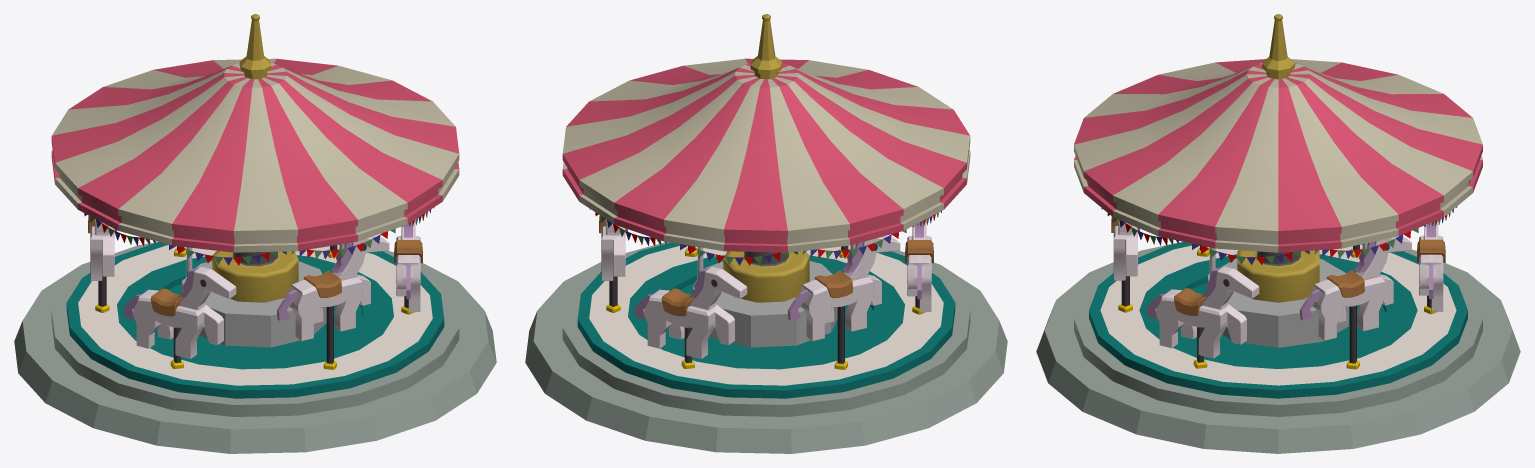
Rendered from MerryGoRound_MD(1).fbx.
3 renders of one model, left to right at view 1: azimuth 30°, elevation 25°; view 2: azimuth 150°, elevation 25°; view 3: azimuth 270°, elevation 25°, orthographic.
Parts seen in each view (by area): view 1: rotation, unRotate, horse4, horse5, pCylinder1, horse6, horse3; view 2: rotation, unRotate, horse2, horse3, pCylinder1, horse4, horse1; view 3: rotation, unRotate, horse6, horse1, pCylinder1, horse2, horse5.
Part boxes in pixels (x1,y1,x2,y2): rotation: (51, 58, 459, 398); unRotate: (14, 14, 496, 453); horse4: (124, 247, 236, 362); horse5: (276, 236, 389, 363); pCylinder1: (181, 261, 326, 347); horse6: (394, 219, 422, 311); horse3: (88, 215, 116, 306); rotation: (562, 58, 970, 398); unRotate: (525, 14, 1007, 453); horse2: (635, 247, 747, 362); horse3: (787, 236, 900, 363); pCylinder1: (692, 261, 837, 347); horse4: (905, 219, 933, 311); horse1: (599, 215, 627, 306); rotation: (1074, 59, 1482, 398); unRotate: (1036, 14, 1520, 453); horse6: (1147, 247, 1259, 362); horse1: (1299, 236, 1411, 363); pCylinder1: (1208, 259, 1348, 347); horse2: (1417, 220, 1445, 311); horse5: (1111, 216, 1139, 306).
Size of the model in its own units: 6.53 by 6 by 6.53.
